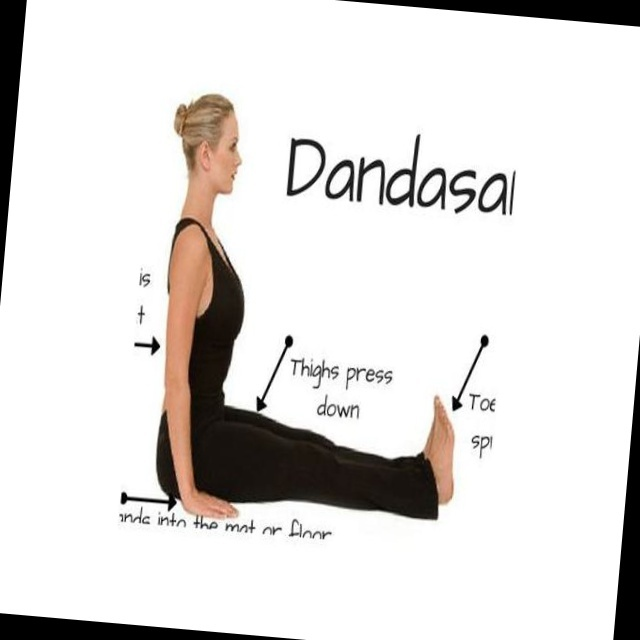Staff_Pose: (157, 93, 457, 517)
